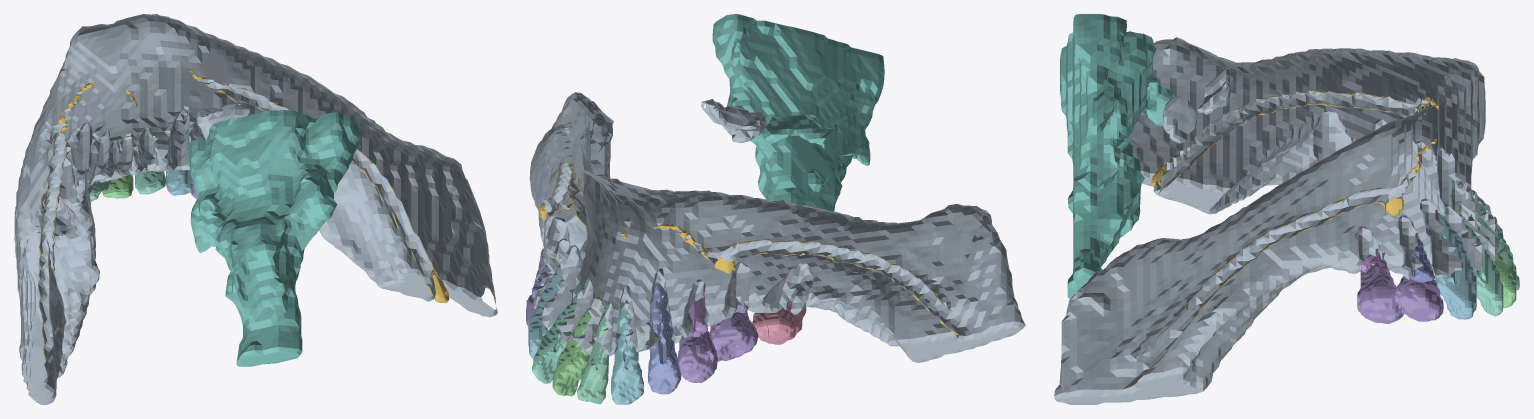
The model's file is ToothFairy3S_0002.glb.
The picture shows the model from 3 angles, left to right: view 1: azimuth 30°, elevation 25°; view 2: azimuth 150°, elevation 25°; view 3: azimuth 270°, elevation 25°; orthographic projection. The views are drawn at different scales.
Parts seen in each view (by area): view 1: jaws__1, other__7, jaws__2, teeth__33, teeth__32, canals__3, teeth__31; view 2: jaws__1, other__7, restorations__9, teeth__43, teeth__42, teeth__31, teeth__41, jaws__2, teeth__32, teeth__46, teeth__33, canals__4 (+1 smaller); view 3: jaws__1, other__7, restorations__9, teeth__33, jaws__2, teeth__32, canals__3, teeth__31, teeth__34, canals__4, teeth__41.
Boxes of the visible parts, x1,y1,x2,y2 form: jaws__1: (14,14,497,404); other__7: (188,110,362,366); jaws__2: (196,103,252,139); teeth__33: (166,109,193,195); teeth__32: (135,127,165,194); canals__3: (226,88,449,302); teeth__31: (102,135,133,198); jaws__1: (529,92,1025,362); other__7: (712,14,884,211); restorations__9: (526,249,758,382); teeth__43: (648,268,681,394); teeth__42: (611,285,643,404); teeth__31: (552,296,602,396); teeth__41: (577,302,613,404); jaws__2: (701,99,765,142); teeth__32: (532,277,593,383); teeth__46: (752,263,813,344); teeth__33: (528,245,580,358); canals__4: (714,240,958,334); jaws__1: (1054,37,1498,404); other__7: (1060,14,1174,299); restorations__9: (1357,262,1443,323); teeth__33: (1421,198,1476,319); jaws__2: (1163,67,1232,143); teeth__32: (1444,206,1503,316); canals__3: (1134,187,1403,384); teeth__31: (1457,209,1516,307); teeth__34: (1397,215,1435,282); canals__4: (1151,90,1411,188); teeth__41: (1457,204,1519,290).
Size of the model in its own units: 100 by 47.7 by 84.24.
